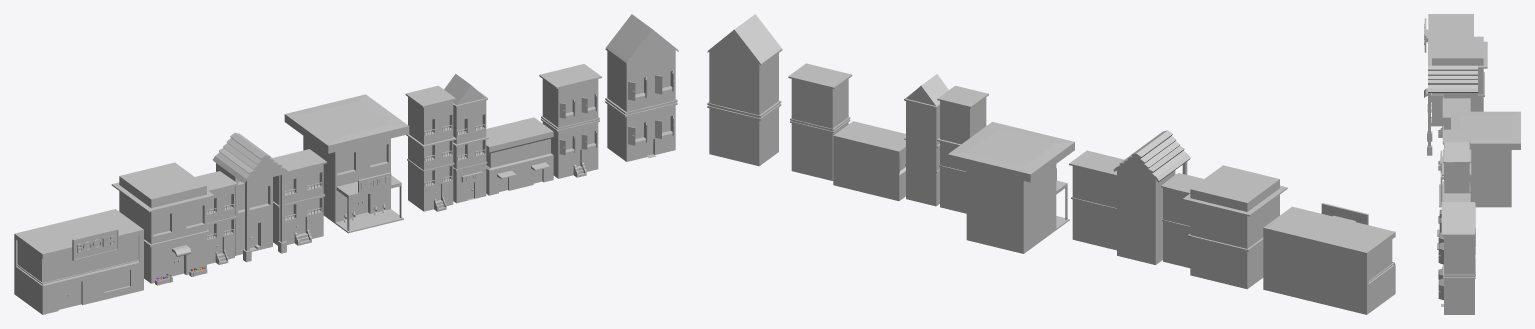
File: HomeTest.fbx
The picture shows the model from 3 angles, left to right: view 1: azimuth 30°, elevation 25°; view 2: azimuth 150°, elevation 25°; view 3: azimuth 270°, elevation 25°; orthographic projection. The views are drawn at different scales.
Visible parts, largest first — view 1: Text, Cube.003, Cylinder.006, Cube.001, Cylinder.005, Cylinder.003, Cube, Cube.002, Cylinder.002, Cylinder.004, Cylinder.001; view 2: Text, Cube.003, Cylinder.006, Cube.001, Cube, Cylinder.005, Cube.002, Cylinder.004, Cylinder.002, Cylinder.003, Cylinder.001; view 3: Cube.003, Cylinder.006, Cube.001, Cube, Cylinder.004, Text, Cylinder.002, Cylinder.003, Cylinder.005, Cube.002.
Boxes of the visible parts, x1,y1,x2,y2 form: Text: (14,209,143,314); Cube.003: (284,94,409,233); Cylinder.006: (605,14,678,161); Cube.001: (111,162,214,285); Cylinder.005: (539,64,601,178); Cylinder.003: (405,85,456,211); Cube: (212,132,287,262); Cube.002: (486,117,553,195); Cylinder.002: (273,149,326,245); Cylinder.004: (444,74,488,203); Cylinder.001: (195,171,236,264); Text: (1263,203,1395,314); Cube.003: (948,122,1074,253); Cylinder.006: (707,14,782,166); Cube.001: (1182,165,1287,289); Cube: (1113,130,1190,264); Cylinder.005: (788,63,852,180); Cube.002: (833,121,905,200); Cylinder.004: (904,74,948,206); Cylinder.002: (1069,150,1123,250); Cylinder.003: (937,85,988,213); Cylinder.001: (1161,173,1203,268); Cube.003: (1439,111,1520,207); Cylinder.006: (1438,202,1475,314); Cube.001: (1424,36,1487,126); Cube: (1427,65,1477,155); Cylinder.004: (1442,142,1471,193); Text: (1424,14,1473,102); Cylinder.002: (1438,98,1470,170); Cylinder.003: (1438,129,1471,223); Cylinder.005: (1438,193,1470,278); Cube.002: (1437,203,1475,254).
Size of the model in its own units: 7121 by 1363 by 1151.
